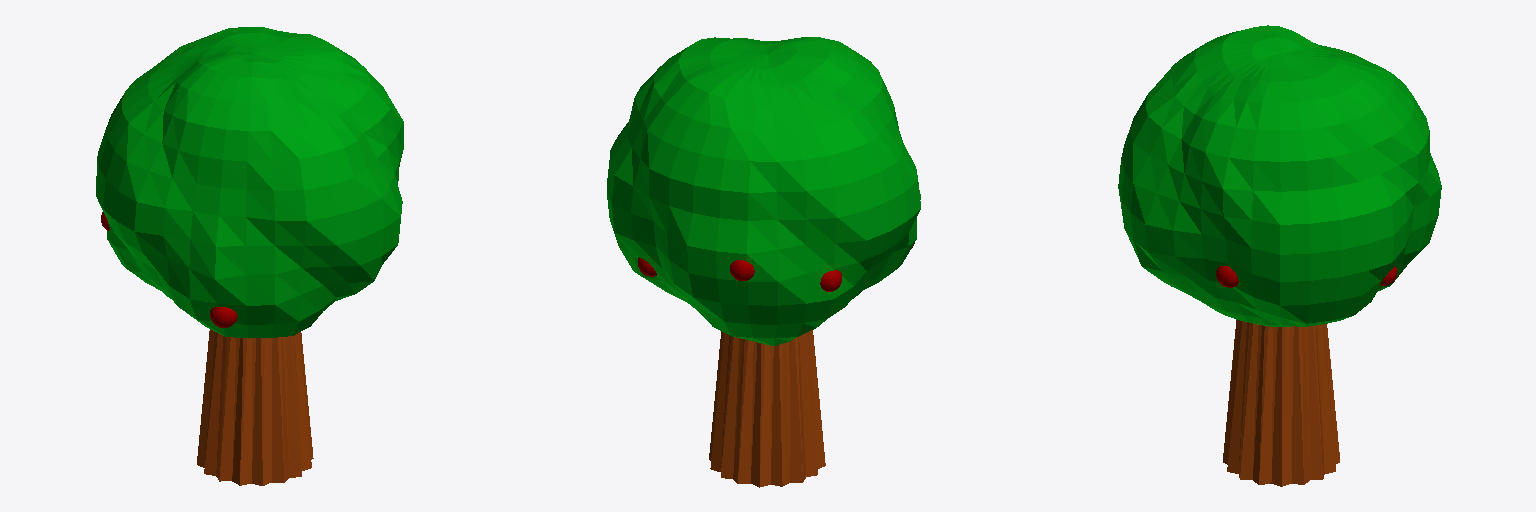
Rendered from AppleTree.obj.
3 renders of one model, left to right at view 1: azimuth 30°, elevation 25°; view 2: azimuth 150°, elevation 25°; view 3: azimuth 270°, elevation 25°, orthographic.
Parts seen in each view (by area): view 1: Circle_Circle.001; view 2: Circle_Circle.001; view 3: Circle_Circle.001.
Boxes of the visible parts, x1,y1,x2,y2 form: Circle_Circle.001: [96, 27, 403, 485]; Circle_Circle.001: [607, 37, 920, 487]; Circle_Circle.001: [1118, 25, 1441, 486].
Bounding box in the file's own units: 4.85 × 6.83 × 4.85.